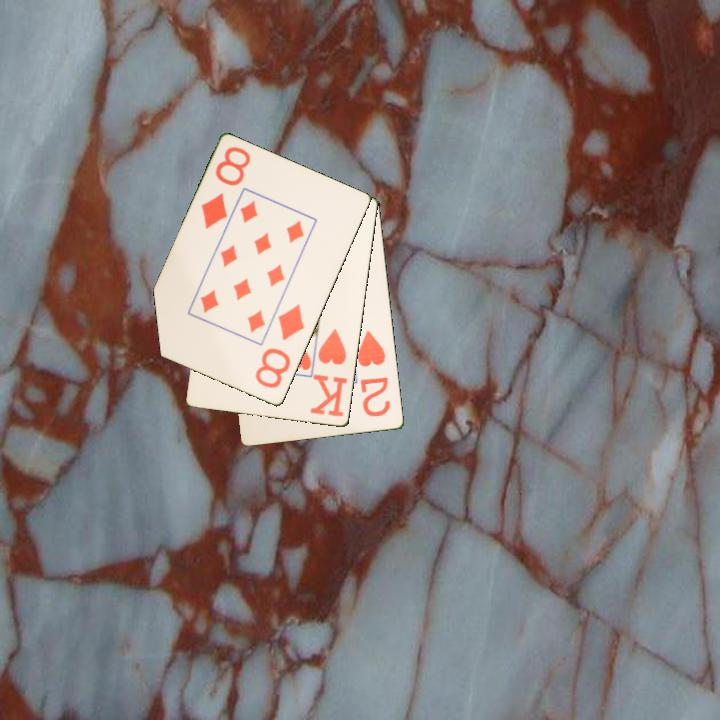2h: (354, 327, 394, 420)
8d: (252, 301, 308, 391), (198, 143, 254, 232)
Kh: (307, 326, 351, 420)
